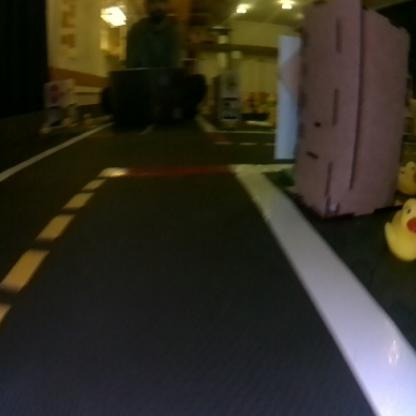duckie: (380, 183, 415, 269), (394, 140, 416, 192)
